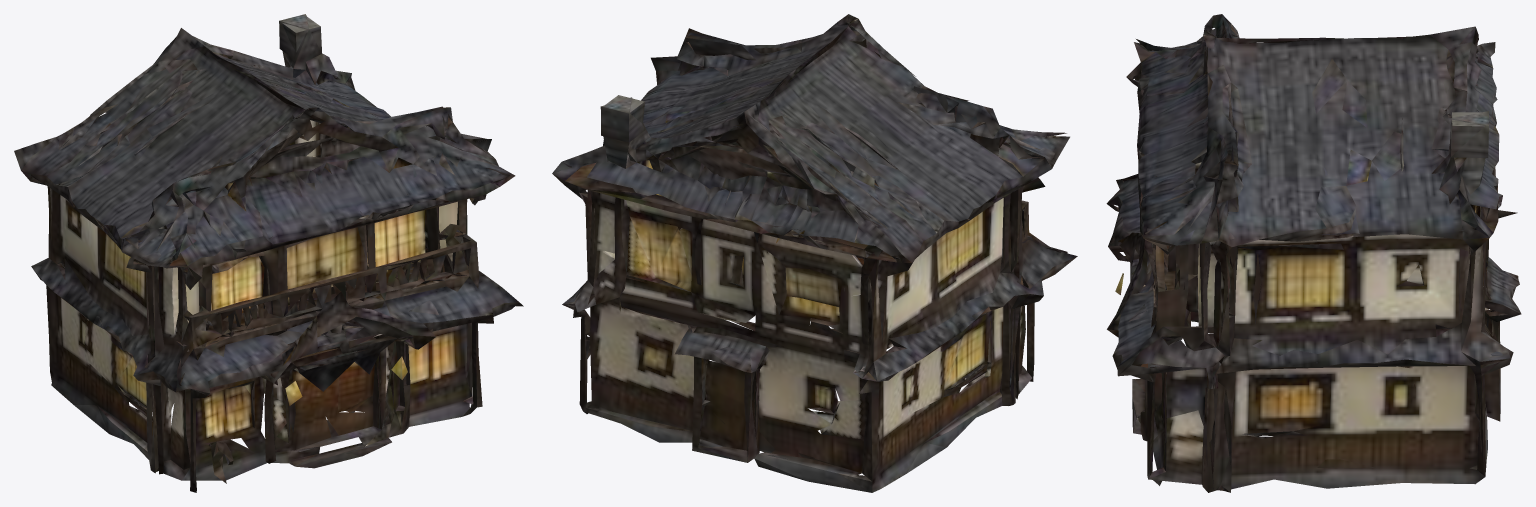
The picture shows the model from 3 angles, left to right: view 1: azimuth 30°, elevation 25°; view 2: azimuth 150°, elevation 25°; view 3: azimuth 270°, elevation 25°; orthographic projection. The views are drawn at different scales.
Visible parts, largest first — view 1: compact__hotel_2__neural_lod; view 2: compact__hotel_2__neural_lod; view 3: compact__hotel_2__neural_lod.
Part boxes in pixels (x1=…): compact__hotel_2__neural_lod: x1=14, y1=14, x2=523, y2=492; compact__hotel_2__neural_lod: x1=552, y1=14, x2=1077, y2=492; compact__hotel_2__neural_lod: x1=1106, y1=14, x2=1521, y2=492.
Size of the model in its own units: 0.9608 by 0.8148 by 0.7965.
Materials: 1 (1 with a texture image).
